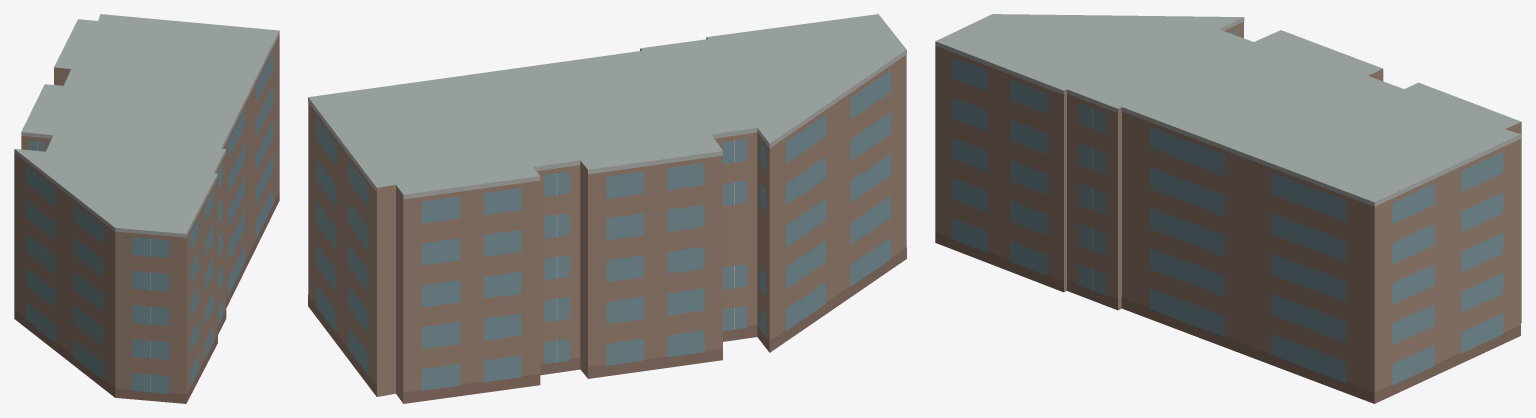
Rendered from survey-upis-32662464.glb.
3 renders of one model, left to right at view 1: azimuth 30°, elevation 25°; view 2: azimuth 150°, elevation 25°; view 3: azimuth 270°, elevation 25°, orthographic. The views are drawn at different scales.
Parts seen in each view (by area): view 1: survey-upis-32662464.tmp; view 2: survey-upis-32662464.tmp; view 3: survey-upis-32662464.tmp.
Part boxes in pixels (<box>): survey-upis-32662464.tmp: <box>14,14,279,403</box>; survey-upis-32662464.tmp: <box>308,14,906,403</box>; survey-upis-32662464.tmp: <box>935,14,1521,403</box>.
Bounding box in the file's own units: 22.46 × 11.2 × 29.54.
